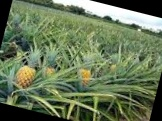Pineapple: (15, 49, 41, 87)
